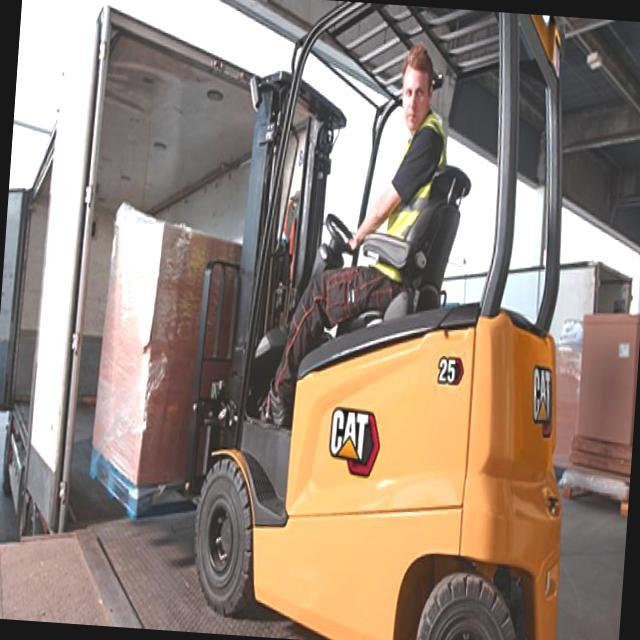driver: (256, 34, 462, 422)
forklift: (182, 2, 569, 632)
